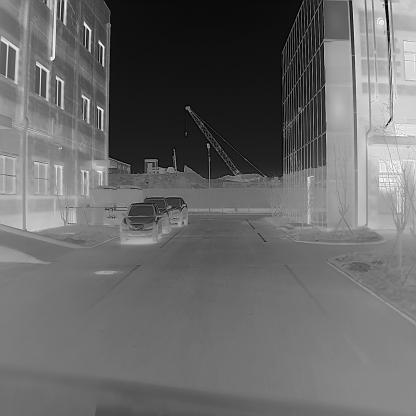car: (119, 202, 163, 245), (141, 196, 172, 233), (163, 195, 188, 228)
